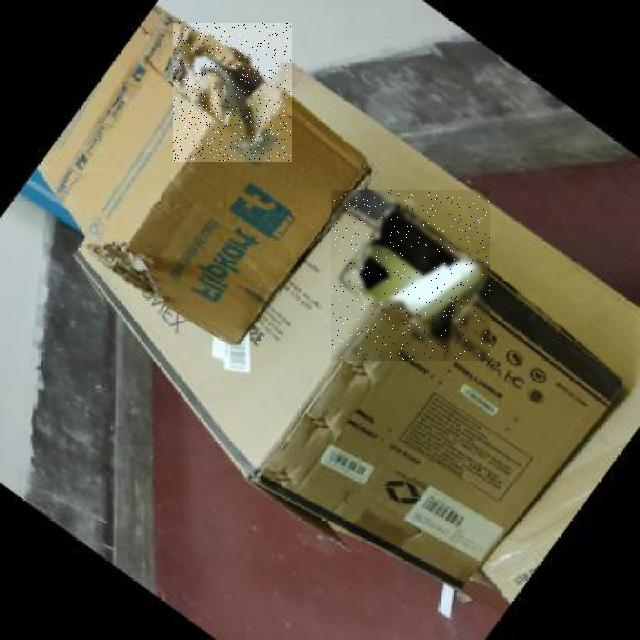leakage: (333, 190, 490, 360), (174, 23, 291, 161)
